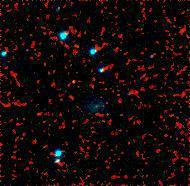star: (58, 64, 88, 94)
